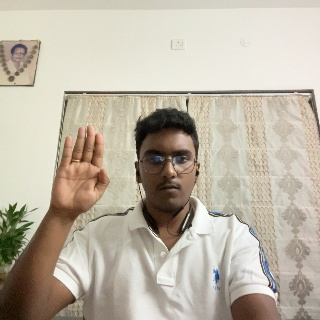Face: (135, 108, 201, 214)
Hello: (49, 125, 110, 235)
